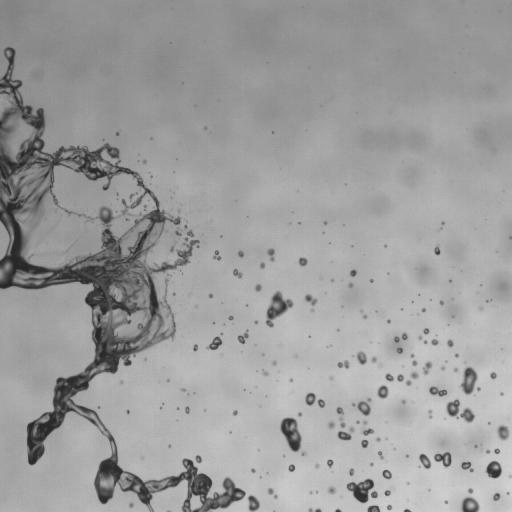droplet: (265, 290, 293, 327), (346, 478, 378, 503), (280, 417, 302, 451), (460, 366, 480, 394), (355, 397, 371, 415), (305, 392, 324, 407), (434, 451, 451, 467), (485, 461, 501, 478), (461, 497, 479, 511), (337, 426, 354, 440), (207, 336, 222, 349), (361, 420, 374, 435), (497, 425, 509, 440), (419, 453, 431, 468), (355, 351, 367, 364), (304, 294, 317, 305), (237, 330, 248, 343), (377, 385, 388, 398), (422, 361, 432, 374), (461, 462, 473, 471), (337, 360, 349, 368), (267, 248, 274, 261), (298, 257, 307, 266), (382, 469, 391, 478), (367, 505, 380, 511), (233, 269, 242, 277), (385, 373, 394, 381), (213, 250, 220, 260), (327, 486, 335, 494), (254, 283, 261, 291), (446, 339, 453, 347), (410, 371, 418, 378), (396, 374, 404, 381), (327, 421, 335, 428), (434, 245, 440, 254), (361, 440, 368, 447), (493, 493, 500, 500), (195, 455, 201, 463), (327, 459, 333, 467), (350, 269, 356, 276), (431, 339, 438, 345), (288, 464, 294, 471), (378, 451, 383, 459), (423, 328, 429, 334), (396, 347, 402, 353), (371, 356, 377, 362), (490, 372, 496, 378), (349, 468, 354, 475), (428, 409, 432, 417), (238, 251, 243, 257), (260, 262, 265, 268), (262, 370, 268, 375), (384, 490, 390, 495), (193, 344, 197, 351), (412, 360, 417, 365), (406, 380, 411, 385), (494, 448, 499, 453), (468, 488, 473, 493), (185, 407, 189, 413), (348, 283, 353, 287), (233, 410, 237, 415), (301, 451, 306, 455), (129, 502, 133, 507), (387, 505, 391, 510), (229, 315, 233, 319), (418, 335, 422, 339), (454, 353, 458, 357), (272, 361, 276, 365), (441, 366, 445, 370), (453, 368, 457, 372), (298, 412, 302, 416), (376, 437, 380, 441), (315, 464, 319, 468), (208, 294, 212, 297), (486, 450, 490, 453), (251, 469, 255, 472), (143, 160, 146, 163), (370, 279, 373, 282), (440, 301, 443, 304), (422, 308, 425, 311), (254, 320, 257, 323), (379, 364, 382, 367), (330, 376, 333, 379), (289, 379, 292, 382), (182, 388, 185, 391), (402, 400, 405, 403), (126, 410, 129, 413), (324, 221, 326, 224), (441, 222, 444, 224), (311, 308, 313, 311), (387, 320, 390, 322), (424, 340, 426, 343), (411, 354, 413, 357), (370, 463, 373, 465), (508, 475, 511, 477), (116, 132, 118, 134), (178, 210, 180, 212), (66, 249, 68, 251), (165, 289, 167, 291), (406, 455, 408, 457)
ligament: (0, 47, 256, 511), (446, 399, 474, 422), (429, 386, 447, 396), (336, 407, 345, 427), (394, 332, 407, 342), (267, 488, 277, 498), (360, 310, 367, 318), (308, 508, 321, 511), (334, 509, 341, 511), (403, 509, 410, 511), (510, 236, 511, 239), (167, 510, 170, 511)
